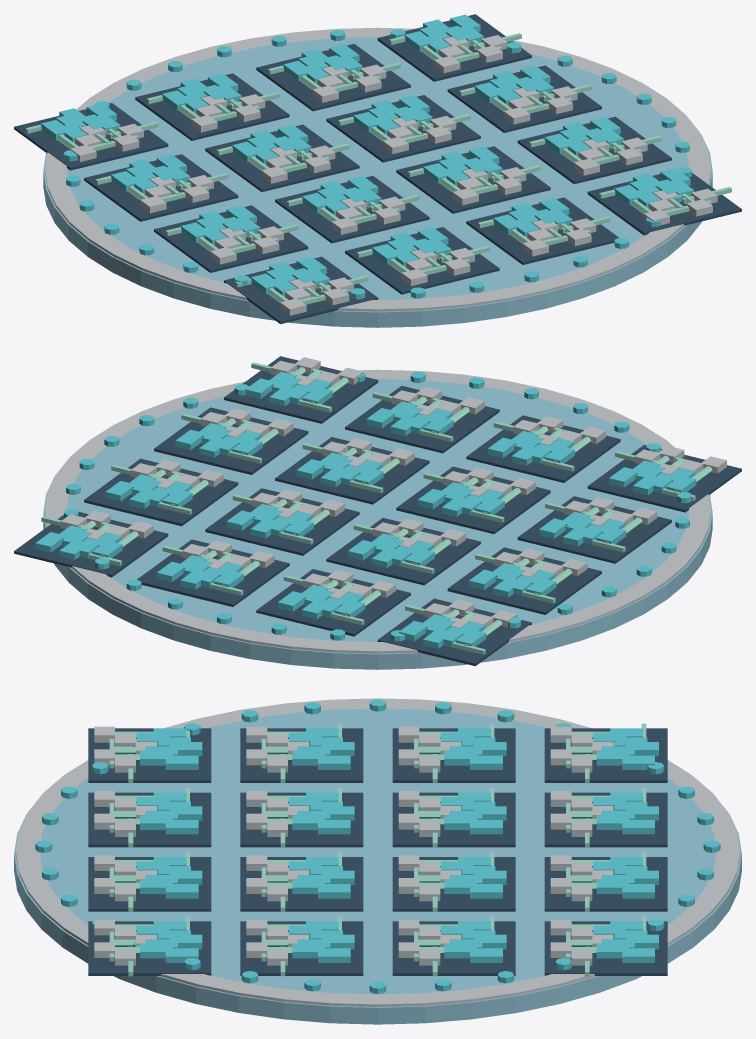
Rendered from 31_L74_PlanarizedSiliconWafer.glb.
3 views of the same model, one above another, from view 1: azimuth 30°, elevation 25°; view 2: azimuth 150°, elevation 25°; view 3: azimuth 270°, elevation 25° (orthographic). The views are drawn at different scales.
Visible parts, largest first — view 1: PlanarizedSiliconWafer_Node_0000, PlanarizedSiliconWafer_Node_0001, PlanarizedSiliconWafer_Node_0128, PlanarizedSiliconWafer_Node_0191, PlanarizedSiliconWafer_Node_0212, PlanarizedSiliconWafer_Node_0107, PlanarizedSiliconWafer_Node_0170, PlanarizedSiliconWafer_Node_0086, PlanarizedSiliconWafer_Node_0275, PlanarizedSiliconWafer_Node_0044, PlanarizedSiliconWafer_Node_0023, PlanarizedSiliconWafer_Node_0296 (+6 smaller); view 2: PlanarizedSiliconWafer_Node_0000, PlanarizedSiliconWafer_Node_0001, PlanarizedSiliconWafer_Node_0275, PlanarizedSiliconWafer_Node_0296, PlanarizedSiliconWafer_Node_0212, PlanarizedSiliconWafer_Node_0128, PlanarizedSiliconWafer_Node_0191, PlanarizedSiliconWafer_Node_0233, PlanarizedSiliconWafer_Node_0149, PlanarizedSiliconWafer_Node_0107, PlanarizedSiliconWafer_Node_0023, PlanarizedSiliconWafer_Node_0044 (+6 smaller); view 3: PlanarizedSiliconWafer_Node_0000, PlanarizedSiliconWafer_Node_0001, PlanarizedSiliconWafer_Node_0128, PlanarizedSiliconWafer_Node_0107, PlanarizedSiliconWafer_Node_0149, PlanarizedSiliconWafer_Node_0086, PlanarizedSiliconWafer_Node_0044, PlanarizedSiliconWafer_Node_0023, PlanarizedSiliconWafer_Node_0212, PlanarizedSiliconWafer_Node_0191, PlanarizedSiliconWafer_Node_0233, PlanarizedSiliconWafer_Node_0170 (+6 smaller).
Part boxes in pixels (x1,y1,x2,y2): PlanarizedSiliconWafer_Node_0000: (43, 37, 712, 327); PlanarizedSiliconWafer_Node_0001: (45, 27, 710, 311); PlanarizedSiliconWafer_Node_0128: (275, 176, 429, 243); PlanarizedSiliconWafer_Node_0191: (326, 95, 480, 162); PlanarizedSiliconWafer_Node_0212: (396, 146, 550, 213); PlanarizedSiliconWafer_Node_0107: (205, 124, 359, 191); PlanarizedSiliconWafer_Node_0170: (256, 44, 410, 111); PlanarizedSiliconWafer_Node_0086: (135, 73, 289, 140); PlanarizedSiliconWafer_Node_0275: (447, 65, 601, 132); PlanarizedSiliconWafer_Node_0044: (154, 205, 308, 272); PlanarizedSiliconWafer_Node_0023: (84, 154, 238, 221); PlanarizedSiliconWafer_Node_0296: (517, 116, 671, 184); PlanarizedSiliconWafer_Node_0000: (43, 379, 712, 669); PlanarizedSiliconWafer_Node_0001: (45, 369, 710, 653); PlanarizedSiliconWafer_Node_0275: (84, 458, 238, 526); PlanarizedSiliconWafer_Node_0296: (154, 407, 308, 474); PlanarizedSiliconWafer_Node_0212: (275, 437, 429, 504); PlanarizedSiliconWafer_Node_0128: (396, 466, 550, 533); PlanarizedSiliconWafer_Node_0191: (205, 488, 359, 555); PlanarizedSiliconWafer_Node_0233: (345, 386, 499, 453); PlanarizedSiliconWafer_Node_0149: (466, 415, 620, 482); PlanarizedSiliconWafer_Node_0107: (326, 518, 480, 585); PlanarizedSiliconWafer_Node_0023: (447, 547, 601, 614); PlanarizedSiliconWafer_Node_0044: (517, 496, 671, 563); PlanarizedSiliconWafer_Node_0000: (14, 708, 741, 1024); PlanarizedSiliconWafer_Node_0001: (15, 698, 740, 1006); PlanarizedSiliconWafer_Node_0128: (240, 792, 363, 847); PlanarizedSiliconWafer_Node_0107: (392, 792, 515, 847); PlanarizedSiliconWafer_Node_0149: (88, 792, 211, 847); PlanarizedSiliconWafer_Node_0086: (544, 792, 667, 847); PlanarizedSiliconWafer_Node_0044: (240, 728, 363, 782); PlanarizedSiliconWafer_Node_0023: (392, 728, 515, 782); PlanarizedSiliconWafer_Node_0212: (240, 857, 363, 911); PlanarizedSiliconWafer_Node_0191: (392, 857, 515, 911); PlanarizedSiliconWafer_Node_0233: (88, 857, 211, 911); PlanarizedSiliconWafer_Node_0170: (544, 857, 667, 911).
Size of the model in its own units: 1.22 by 0.0525 by 1.22.
